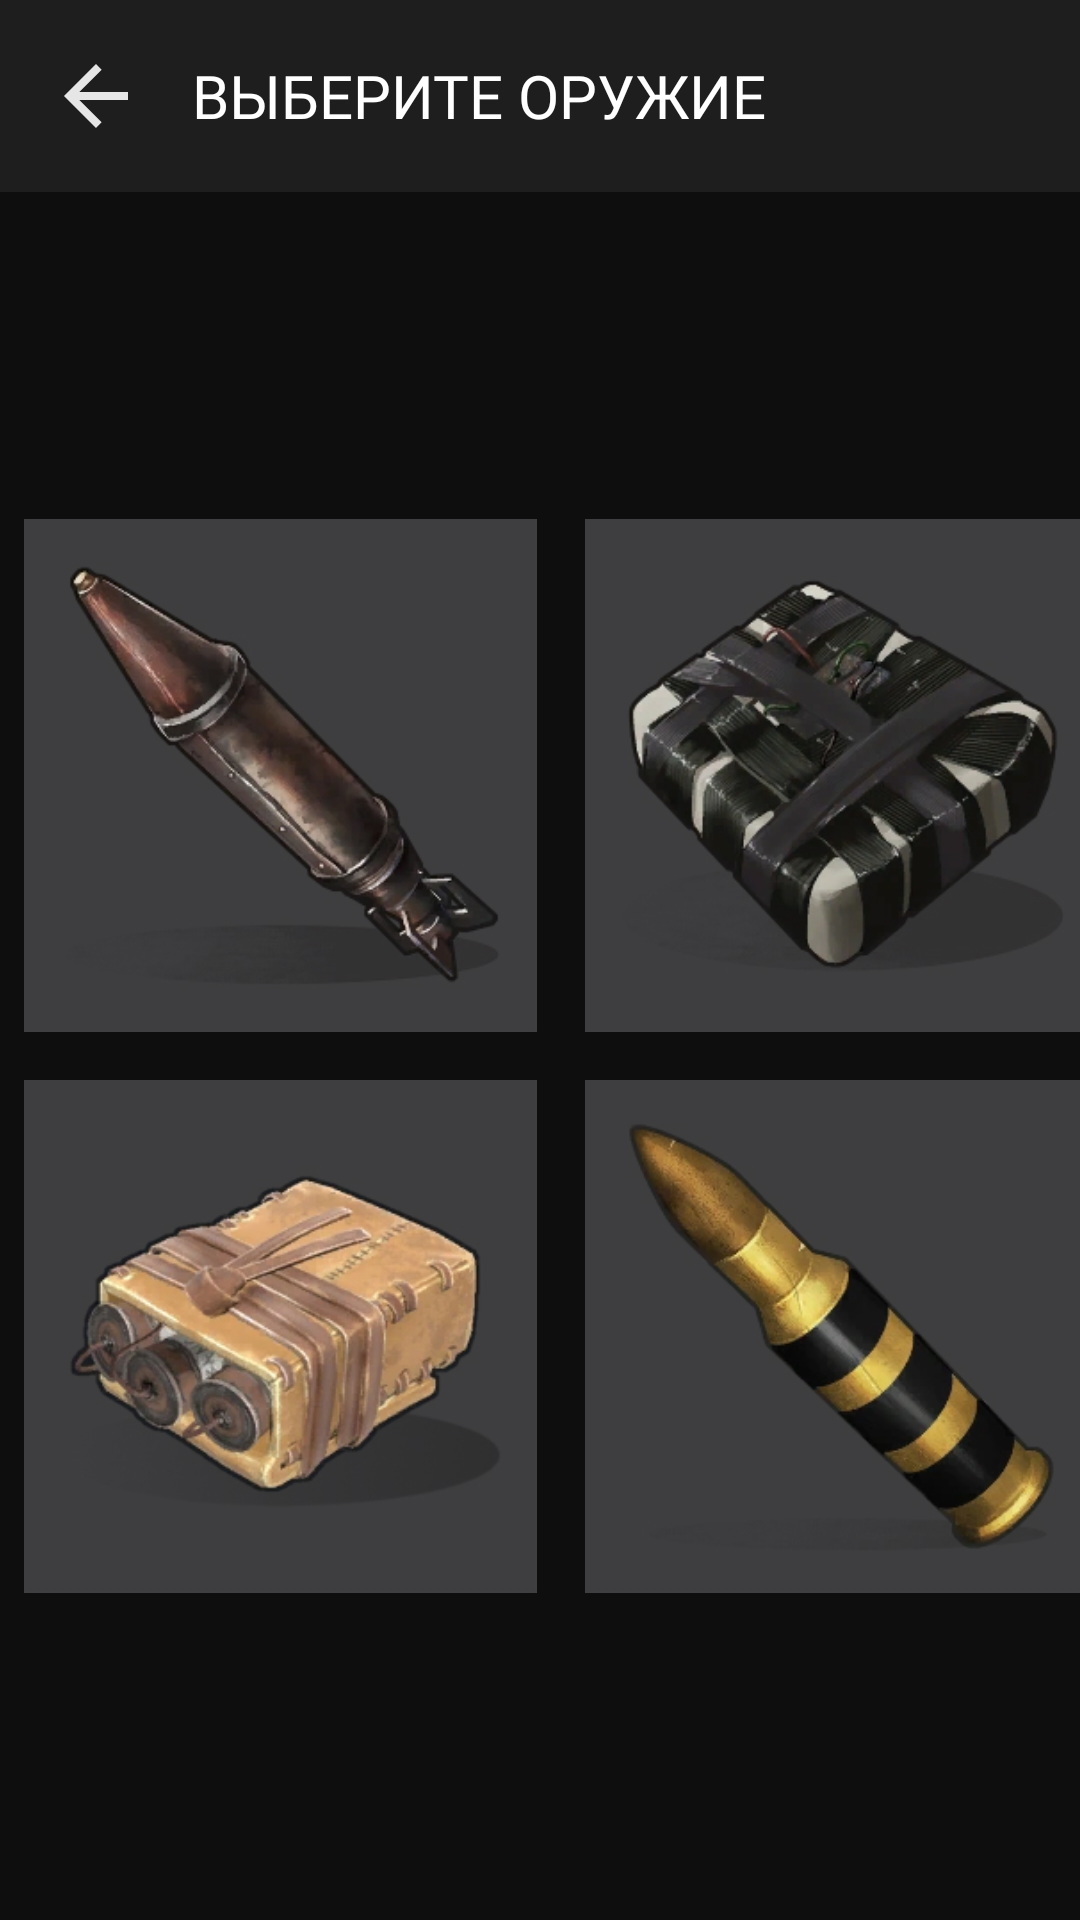

Where icons sit on this 1080 × 1920 app screen, as (x1, y1, x2, y2):
arrow back: (64, 64, 128, 128)
